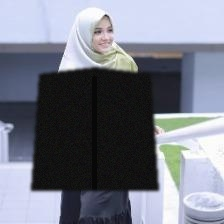Cadar_Niqab: (31, 6, 158, 190)
